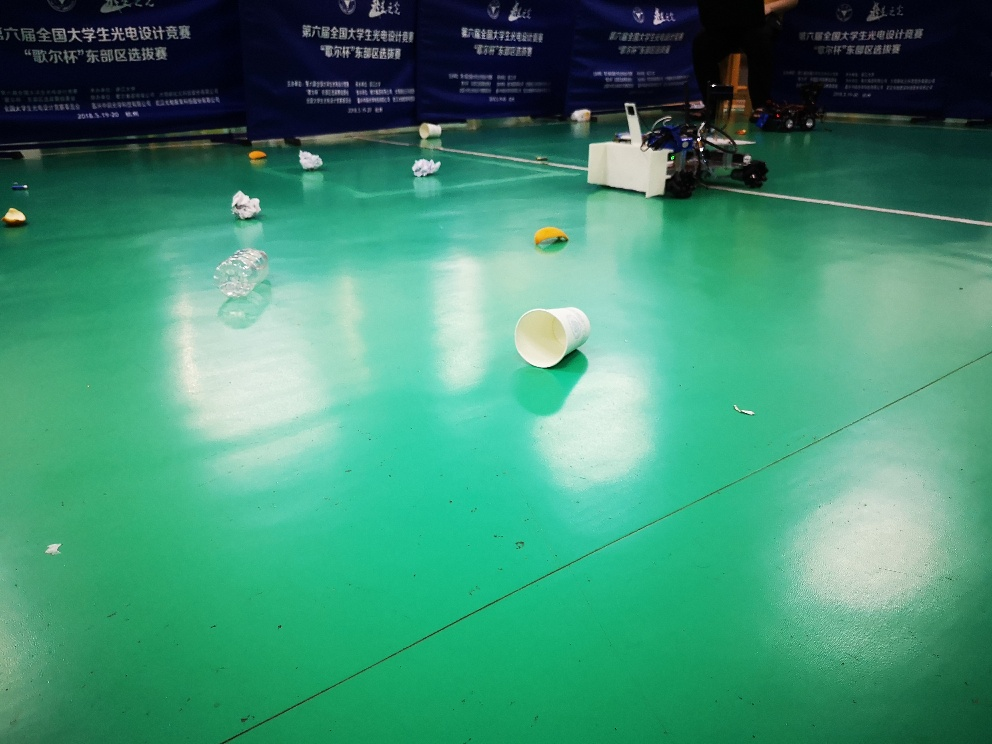battery: (2, 177, 37, 197), (527, 149, 555, 168)
bottle: (210, 246, 272, 300)
orangepeel: (531, 225, 571, 248), (1, 204, 31, 229), (245, 147, 269, 163)
papercup: (511, 303, 595, 370), (417, 122, 442, 141)
spitball: (228, 189, 263, 222), (409, 156, 440, 178), (294, 152, 327, 172)
